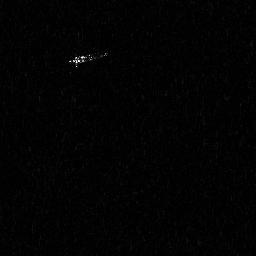ship: (67, 48, 109, 69)
